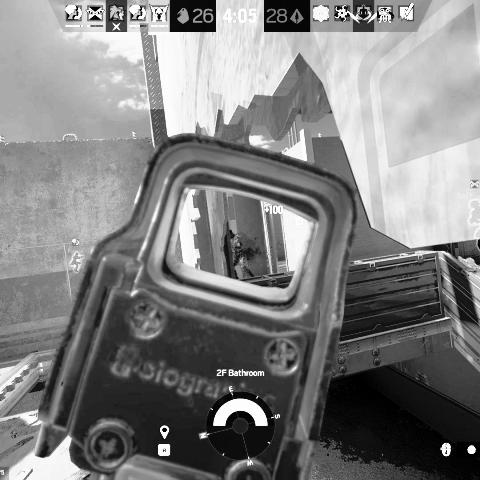Character: (228, 228, 255, 279)
Friend_label: (456, 176, 480, 199), (68, 238, 85, 254)
Head: (229, 230, 235, 236)
